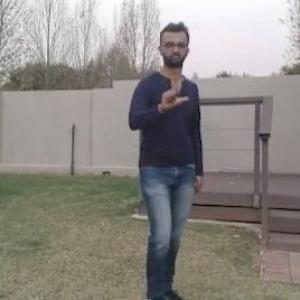land_hand: (157, 75, 190, 111)
